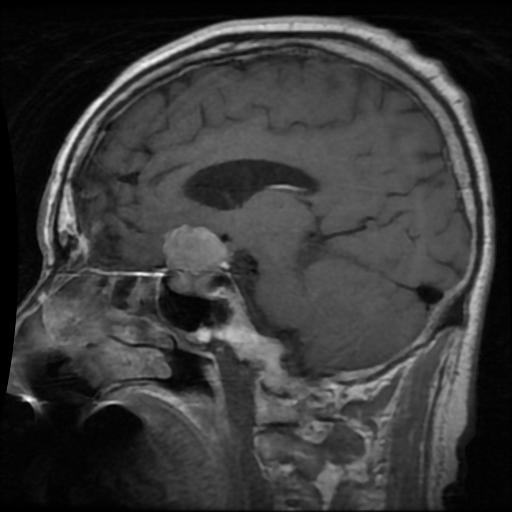Pituirity_tumour: (164, 223, 229, 291)
